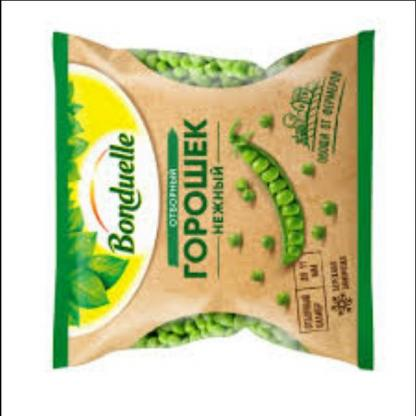peas: (238, 122, 297, 260), (146, 304, 292, 358), (130, 37, 293, 85), (220, 249, 270, 294), (260, 283, 294, 315), (245, 106, 278, 133), (295, 226, 337, 246), (295, 146, 318, 182), (228, 178, 256, 206), (220, 232, 248, 259), (315, 200, 342, 221), (261, 232, 275, 252)
